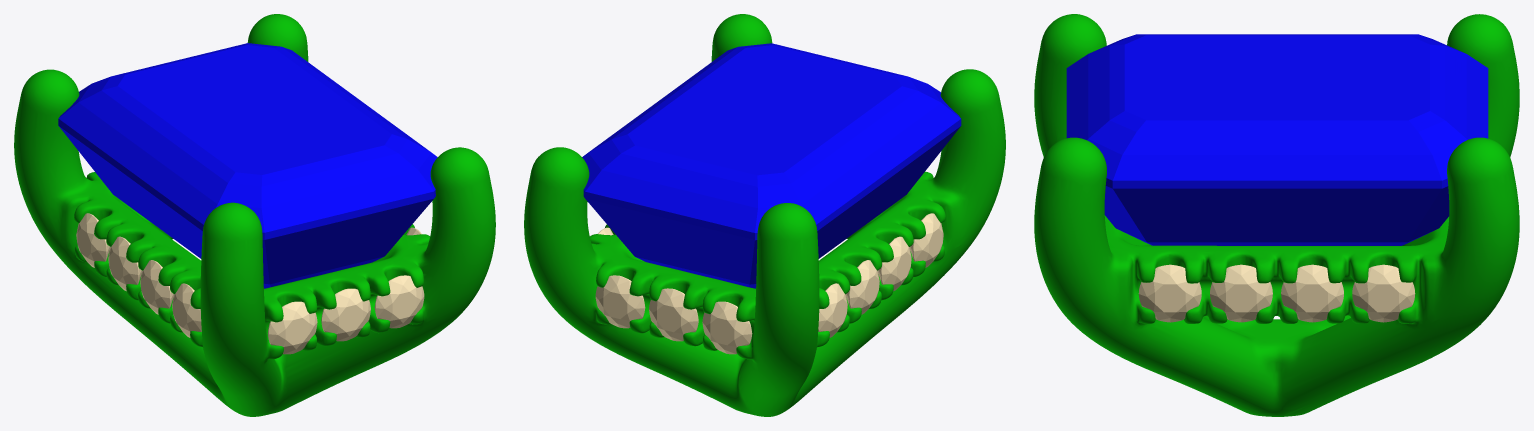
3 views of the same model, side by side, from view 1: azimuth 30°, elevation 25°; view 2: azimuth 150°, elevation 25°; view 3: azimuth 270°, elevation 25° (orthographic). The views are drawn at different scales.
Parts seen in each view (by area): view 1: Metal01, Diamond_Emerald, Diamond_Round011, Diamond_Round013, Diamond_Round012, Diamond_Round009, Diamond_Round010, Diamond_Round007, Diamond_Round008; view 2: Metal01, Diamond_Emerald, Diamond_Round, Diamond_Round001, Diamond_Round002, Diamond_Round009, Diamond_Round007, Diamond_Round008, Diamond_Round010; view 3: Diamond_Emerald, Metal01, Diamond_Round005, Diamond_Round003, Diamond_Round006, Diamond_Round004.
Boxes of the visible parts, <box> form: Metal01: <box>14,14,495,416</box>; Diamond_Emerald: <box>58,43,437,288</box>; Diamond_Round011: <box>321,288,370,341</box>; Diamond_Round013: <box>267,301,317,354</box>; Diamond_Round012: <box>374,275,424,328</box>; Diamond_Round009: <box>108,236,142,291</box>; Diamond_Round010: <box>76,213,110,267</box>; Diamond_Round007: <box>140,260,174,314</box>; Diamond_Round008: <box>172,283,201,337</box>; Metal01: <box>524,14,1005,416</box>; Diamond_Emerald: <box>582,43,961,288</box>; Diamond_Round: <box>649,288,698,341</box>; Diamond_Round001: <box>595,275,645,328</box>; Diamond_Round002: <box>702,301,752,354</box>; Diamond_Round009: <box>845,260,879,314</box>; Diamond_Round007: <box>877,236,911,291</box>; Diamond_Round008: <box>909,213,943,267</box>; Diamond_Round010: <box>818,283,847,337</box>; Diamond_Emerald: <box>1066,34,1488,245</box>; Metal01: <box>1034,14,1519,416</box>; Diamond_Round005: <box>1138,264,1201,322</box>; Diamond_Round003: <box>1352,264,1415,322</box>; Diamond_Round006: <box>1210,264,1272,322</box>; Diamond_Round004: <box>1281,264,1343,322</box>.
Bounding box in the file's own units: 5.86 × 5.75 × 7.72.
